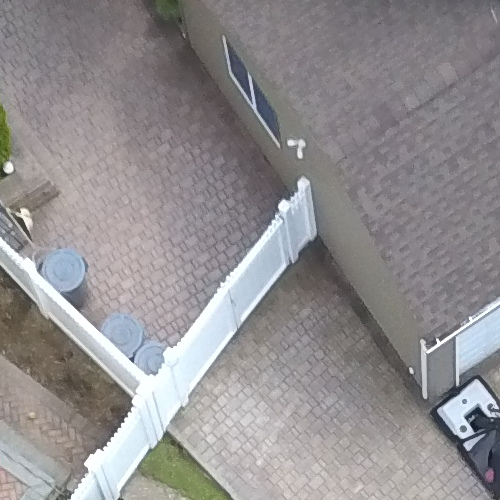container: (32, 242, 96, 319), (96, 306, 150, 365), (126, 338, 177, 387)
